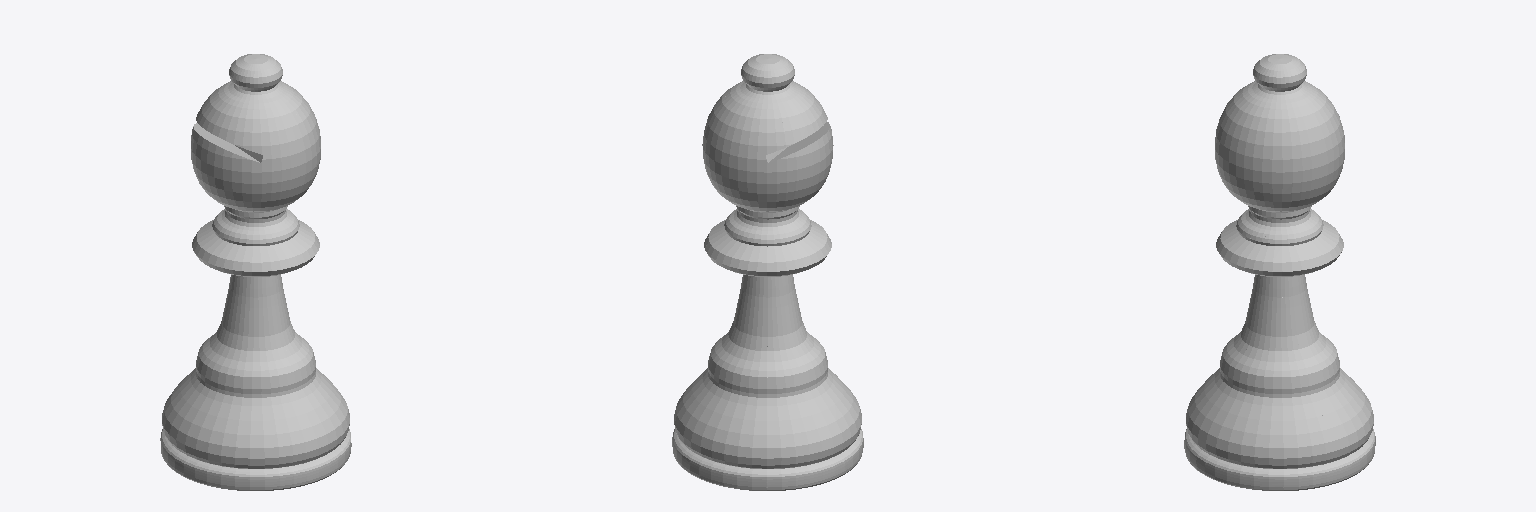
Rendered from bishop_b_1.obj.
3 renders of one model, left to right at view 1: azimuth 30°, elevation 25°; view 2: azimuth 150°, elevation 25°; view 3: azimuth 270°, elevation 25°, orthographic.
Parts seen in each view (by area): view 1: bishiop_b_1; view 2: bishiop_b_1; view 3: bishiop_b_1.
Boxes of the visible parts, x1=… form: bishiop_b_1: x1=160, y1=54, x2=351, y2=490; bishiop_b_1: x1=672, y1=54, x2=863, y2=490; bishiop_b_1: x1=1184, y1=54, x2=1375, y2=490.
Size of the model in its own units: 3.14 by 7.15 by 3.14.